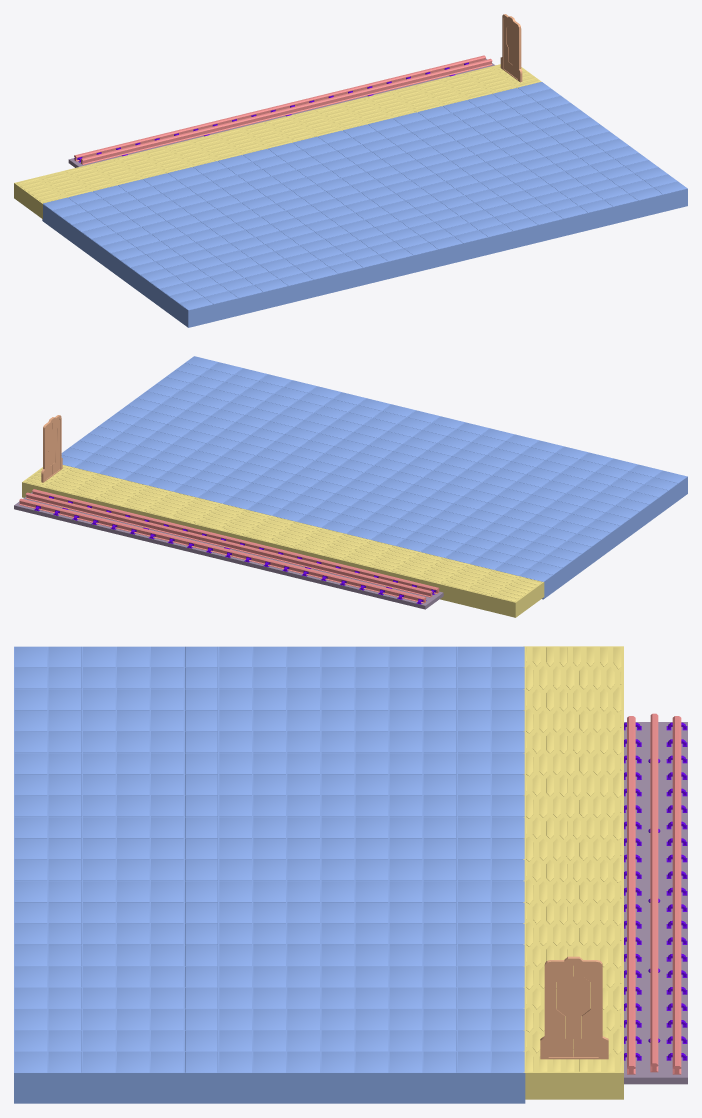
File: OnBoardTheFloor.FBX
The picture shows the model from 3 angles, top to bottom: view 1: azimuth 30°, elevation 25°; view 2: azimuth 150°, elevation 25°; view 3: azimuth 270°, elevation 25°; orthographic projection. The views are drawn at different scales.
Visible parts, largest first — view 1: Box001, Plane016, Box003, Box002, Box010, Box009; view 2: Box001, Plane016, Box003, Box002, Box004, Box010, Box009; view 3: Box001, Plane016, Box002, Box003, Box004, Box010, Box009, Box012.
Boxes of the visible parts, x1,y1,x2,y2 form: Box001: [42, 82, 687, 327]; Plane016: [14, 64, 541, 218]; Box003: [74, 55, 492, 164]; Box002: [68, 58, 494, 167]; Box010: [504, 17, 517, 78]; Box009: [500, 14, 522, 82]; Box001: [61, 356, 687, 599]; Plane016: [22, 465, 544, 617]; Box003: [19, 489, 439, 603]; Box002: [14, 492, 443, 609]; Box004: [34, 496, 435, 604]; Box010: [46, 418, 59, 478]; Box009: [41, 415, 62, 482]; Box001: [14, 646, 525, 1103]; Plane016: [523, 646, 623, 1099]; Box002: [624, 722, 687, 1084]; Box003: [627, 713, 681, 1074]; Box004: [624, 722, 687, 1060]; Box010: [548, 965, 598, 1057]; Box009: [540, 956, 608, 1059]; Box012: [556, 976, 590, 1038].
Size of the model in its own units: 150 by 21.65 by 100.
